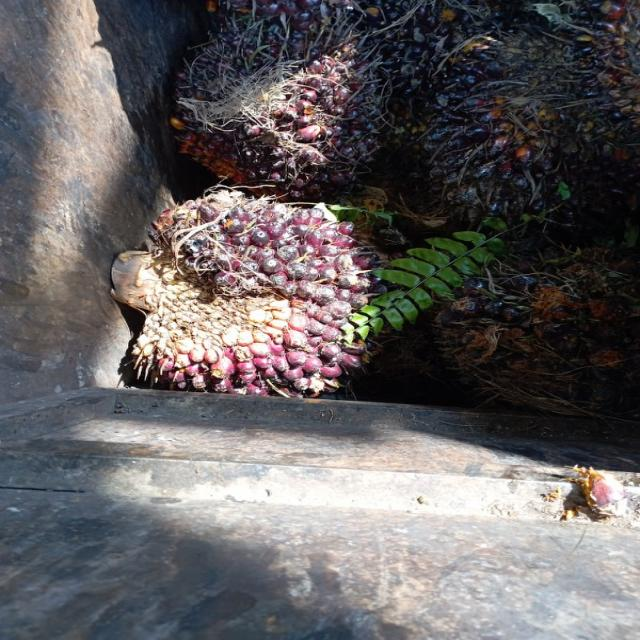fraksi 1: (108, 141, 426, 440)
